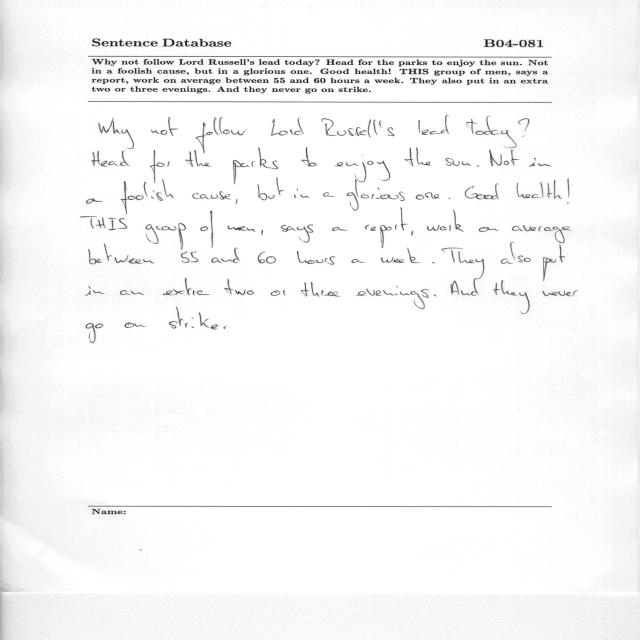word: (510, 225, 571, 260), (347, 176, 405, 211), (195, 117, 247, 153), (121, 179, 174, 214), (365, 208, 408, 248), (356, 286, 429, 309), (233, 148, 278, 185), (466, 116, 517, 148), (335, 155, 390, 182), (321, 119, 395, 138), (89, 244, 155, 265), (442, 248, 485, 279), (493, 280, 530, 314), (145, 223, 186, 250), (99, 118, 134, 149), (169, 308, 218, 330), (517, 180, 562, 199), (543, 244, 566, 281), (163, 278, 210, 296), (427, 210, 464, 232), (149, 150, 170, 183), (381, 246, 421, 263), (81, 216, 128, 230), (258, 178, 285, 201), (281, 224, 313, 243), (419, 115, 449, 135), (490, 147, 520, 167), (271, 118, 304, 136), (92, 151, 129, 167), (301, 282, 340, 297), (465, 183, 499, 200), (297, 251, 335, 265), (151, 117, 178, 136), (404, 148, 431, 167), (451, 278, 479, 296), (201, 210, 214, 248), (224, 279, 254, 295), (211, 247, 240, 263), (185, 150, 212, 167), (192, 191, 231, 200), (86, 323, 103, 343), (301, 147, 317, 167), (501, 255, 531, 264), (518, 118, 530, 137), (258, 252, 276, 264), (542, 291, 578, 297), (446, 158, 472, 166), (529, 158, 552, 167), (181, 251, 198, 263), (416, 192, 440, 200), (86, 286, 105, 296), (228, 225, 255, 232), (294, 188, 310, 198), (125, 322, 147, 328), (120, 290, 144, 295), (479, 227, 499, 232), (86, 199, 103, 204), (271, 290, 285, 296), (332, 227, 348, 231), (323, 192, 335, 197), (351, 259, 365, 263), (567, 179, 569, 204), (223, 326, 227, 329), (236, 199, 238, 204), (261, 230, 263, 235), (412, 231, 414, 236), (477, 165, 479, 167), (434, 295, 436, 297), (432, 262, 435, 263), (449, 197, 450, 199)
